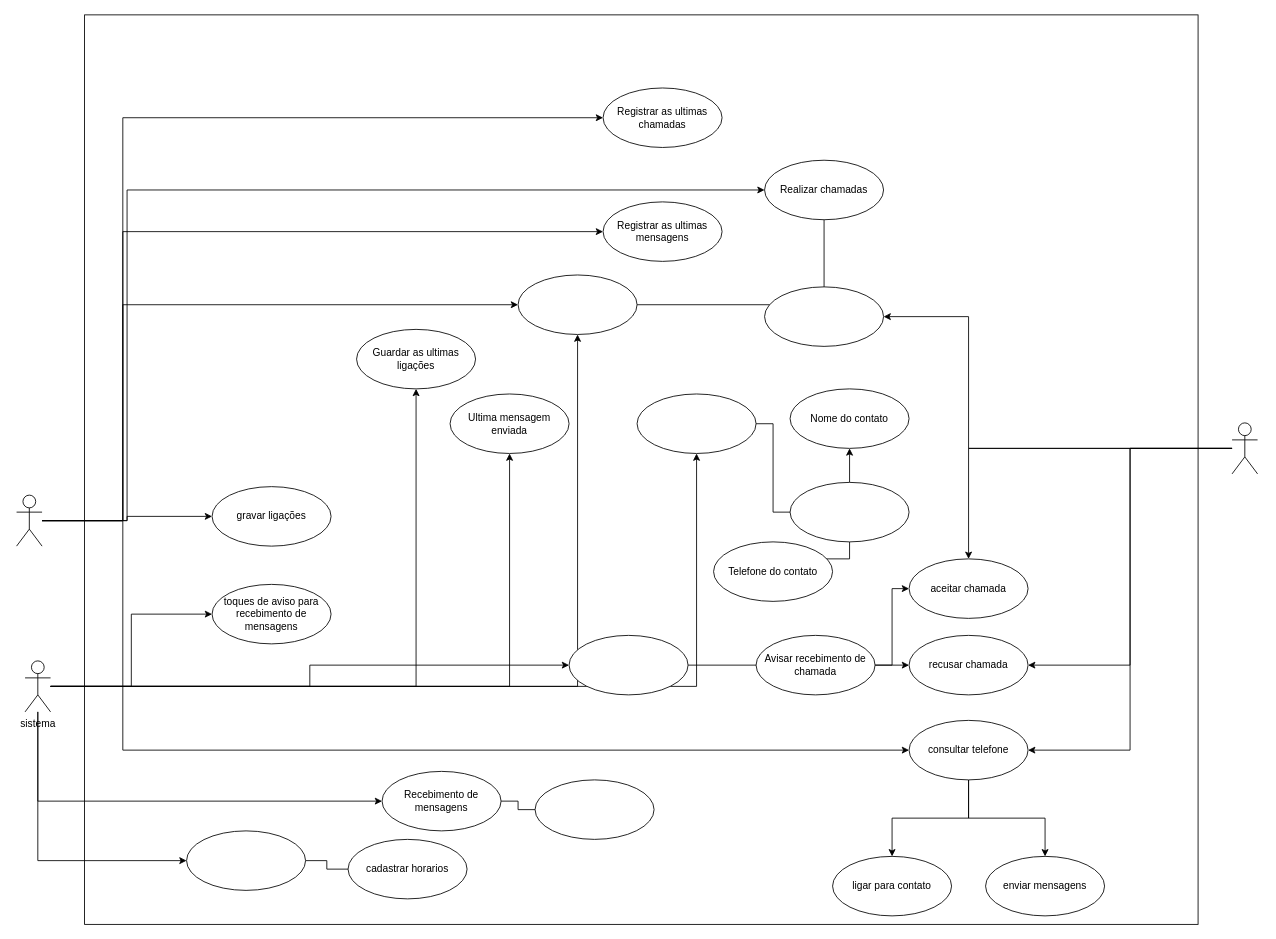
Some shapes in this 1276 by 939 pixel diagram are drawn without their labels. The shapes that lost their labels are listed below. From the top down, each one's box as (x1, y1, x2, y2) in pixels, then its label:
(517, 274, 637, 334): Serviço de mensagem
(764, 286, 884, 346): Informar telefone
(636, 393, 756, 453): Serviço de agenda
(1231, 422, 1258, 474): usuario
(16, 494, 42, 546): celular
(789, 482, 909, 542): Cadastrar contatos
(568, 635, 688, 695): recebimento de chamada
(534, 779, 654, 839): registrar ultimas mensagens
(186, 830, 306, 890): Despertador
